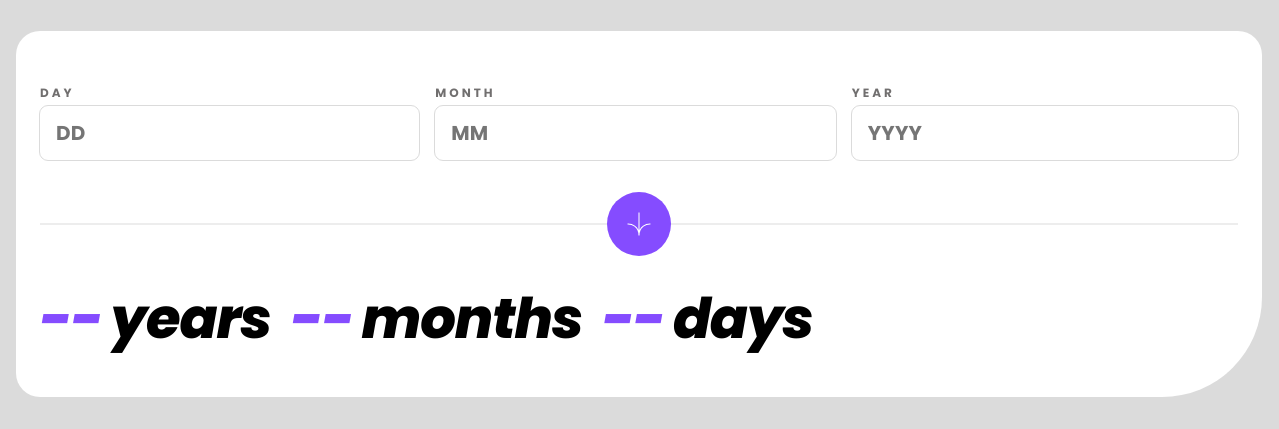
Test: App component › should show error when no fields are filled
Click the element with test id "submit". click: (639, 224)
box: x1=607 y1=192 x2=671 y2=256
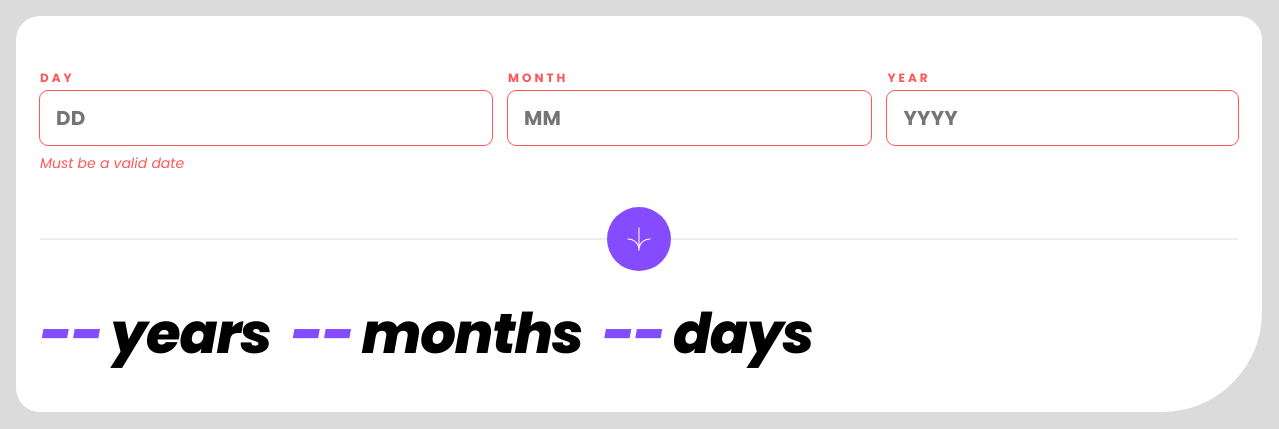
Expected: the text "Must be a valid date" is shown, x1=40 y1=153 x2=184 y2=174
